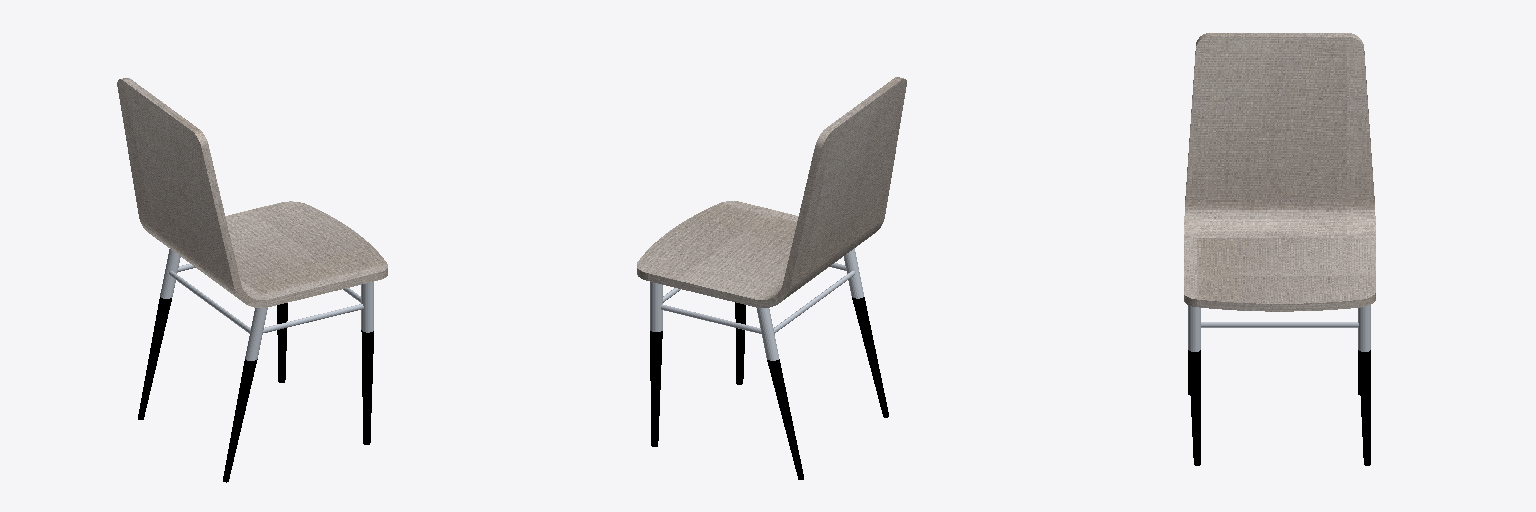
The picture shows the model from 3 angles: view 1: azimuth 30°, elevation 25°; view 2: azimuth 150°, elevation 25°; view 3: azimuth 270°, elevation 25°; orthographic projection.
Visible parts, largest first — view 1: Mesh1 Group1 Model, Mesh11 backblack2 Group2 Model, Mesh8 backblack1 Group2 Model, Mesh7 frontblack2 Group2 Model, Mesh13 back2 Group2 Model, Mesh6 frontblack1 Group2 Model, Mesh12 front2 Group2 Model, Mesh2 Group4 Group3 Group2 Model, Mesh10 back1 Group2 Model; view 2: Mesh1 Group1 Model, Mesh6 frontblack1 Group2 Model, Mesh11 backblack2 Group2 Model, Mesh8 backblack1 Group2 Model, Mesh7 frontblack2 Group2 Model, Mesh10 back1 Group2 Model, Mesh9 front1 Group2 Model, Mesh4 Group7 Group6 Group2 Model, Mesh13 back2 Group2 Model; view 3: Mesh1 Group1 Model, Mesh6 frontblack1 Group2 Model, Mesh7 frontblack2 Group2 Model, Mesh3 Group5 Group3 Group2 Model, Mesh12 front2 Group2 Model, Mesh9 front1 Group2 Model.
Boxes of the visible parts, x1=… form: Mesh1 Group1 Model: x1=117, y1=78, x2=387, y2=307; Mesh11 backblack2 Group2 Model: x1=223, y1=359, x2=257, y2=482; Mesh8 backblack1 Group2 Model: x1=138, y1=297, x2=171, y2=419; Mesh7 frontblack2 Group2 Model: x1=361, y1=330, x2=373, y2=444; Mesh13 back2 Group2 Model: x1=245, y1=308, x2=267, y2=360; Mesh6 frontblack1 Group2 Model: x1=277, y1=303, x2=287, y2=382; Mesh12 front2 Group2 Model: x1=361, y1=282, x2=373, y2=332; Mesh2 Group4 Group3 Group2 Model: x1=263, y1=304, x2=363, y2=332; Mesh10 back1 Group2 Model: x1=160, y1=249, x2=180, y2=298; Mesh1 Group1 Model: x1=637, y1=77, x2=906, y2=307; Mesh6 frontblack1 Group2 Model: x1=650, y1=331, x2=662, y2=446; Mesh11 backblack2 Group2 Model: x1=852, y1=297, x2=888, y2=417; Mesh8 backblack1 Group2 Model: x1=767, y1=359, x2=803, y2=479; Mesh7 frontblack2 Group2 Model: x1=735, y1=302, x2=745, y2=384; Mesh10 back1 Group2 Model: x1=757, y1=308, x2=778, y2=360; Mesh9 front1 Group2 Model: x1=650, y1=282, x2=662, y2=331; Mesh4 Group7 Group6 Group2 Model: x1=661, y1=304, x2=761, y2=333; Mesh13 back2 Group2 Model: x1=844, y1=248, x2=863, y2=298; Mesh1 Group1 Model: x1=1184, y1=33, x2=1375, y2=311; Mesh6 frontblack1 Group2 Model: x1=1358, y1=350, x2=1370, y2=465; Mesh7 frontblack2 Group2 Model: x1=1188, y1=350, x2=1200, y2=465; Mesh3 Group5 Group3 Group2 Model: x1=1201, y1=322, x2=1358, y2=327; Mesh12 front2 Group2 Model: x1=1188, y1=305, x2=1200, y2=351; Mesh9 front1 Group2 Model: x1=1358, y1=305, x2=1370, y2=351.
Bounding box in the file's own units: 533 × 900 × 450.
4 materials, 1 textured.